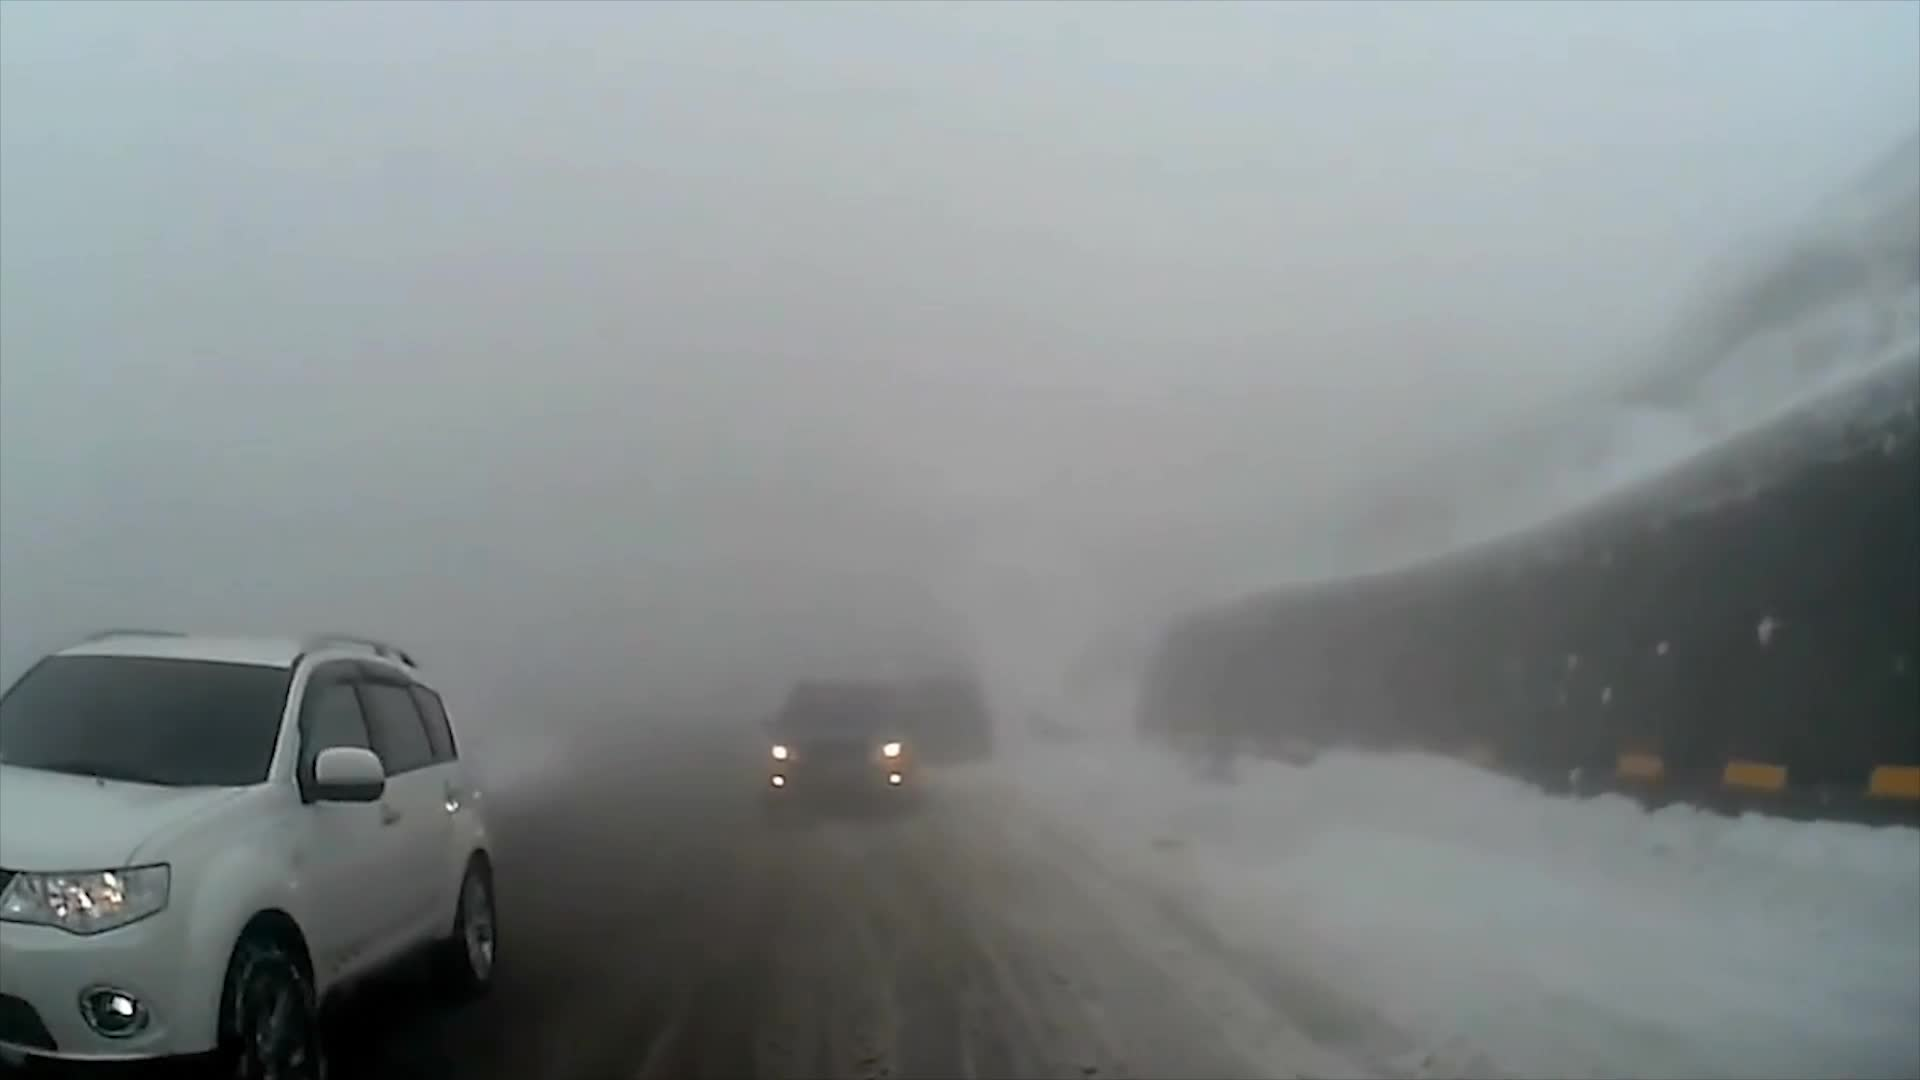vehicle: (0, 626, 501, 1080), (753, 676, 920, 820)
